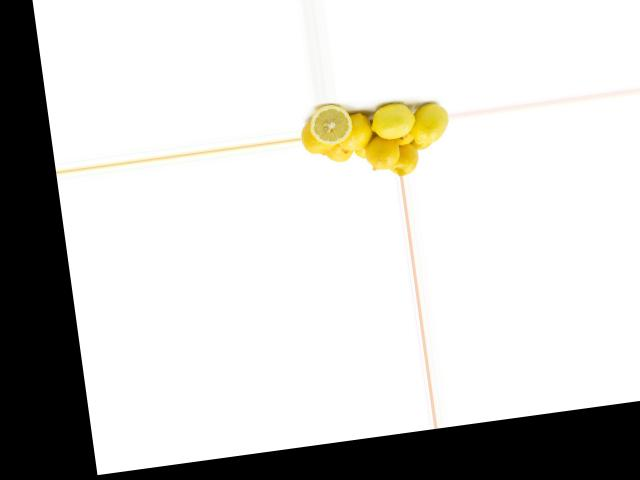lemon: (301, 118, 336, 155)
